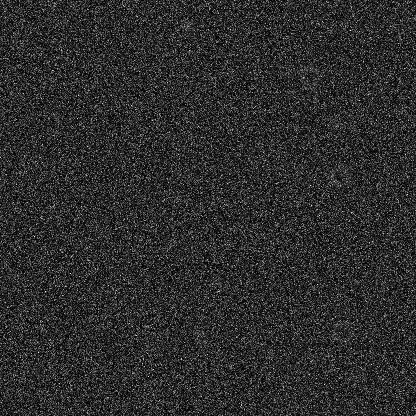Ring: (327, 164, 351, 188), (198, 302, 222, 326), (244, 143, 268, 167), (330, 319, 354, 343), (297, 63, 321, 87), (329, 108, 353, 132)
Spot: (163, 124, 179, 140), (179, 19, 195, 35), (236, 206, 252, 222), (194, 328, 210, 344)
